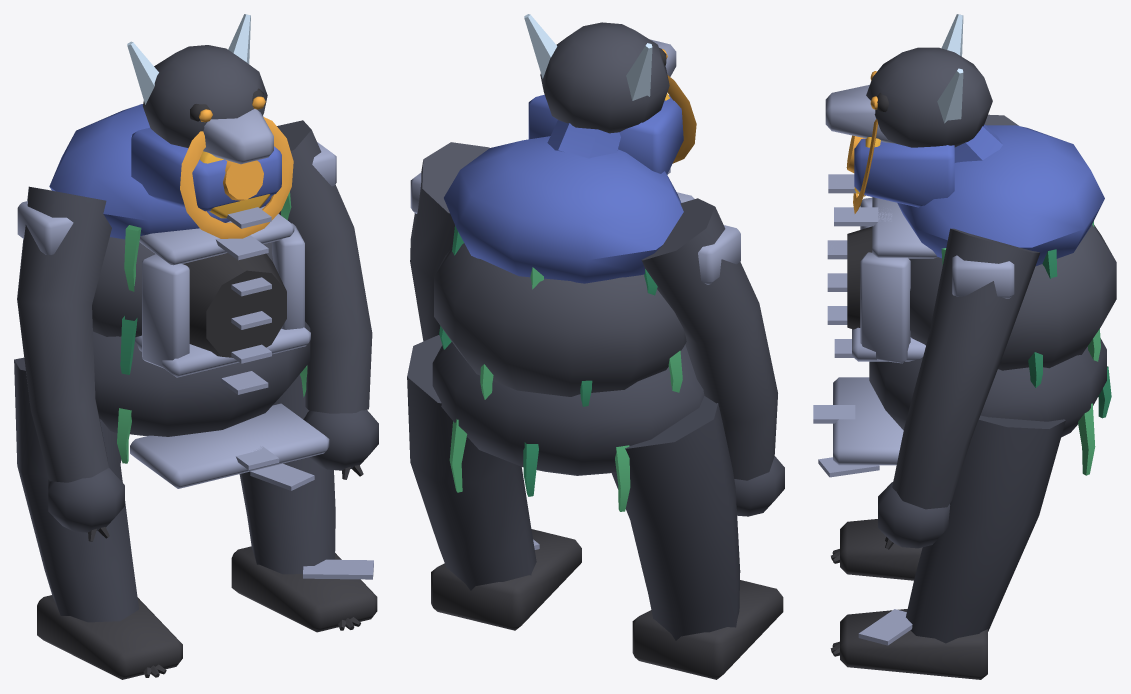
The model's file is drowned_colossus.glb.
3 renders of one model, left to right at view 1: azimuth 30°, elevation 25°; view 2: azimuth 150°, elevation 25°; view 3: azimuth 270°, elevation 25°, orthographic. The views are drawn at different scales.
Parts seen in each view (by area): view 1: DrownedColossus; view 2: DrownedColossus; view 3: DrownedColossus.
Part boxes in pixels (x1,y1,x2,y2): DrownedColossus: (14, 14, 378, 679); DrownedColossus: (407, 14, 784, 679); DrownedColossus: (813, 14, 1116, 679).
Size of the model in its own units: 3.23 by 5.4 by 2.58.
Materials: 1 (1 with a texture image).
